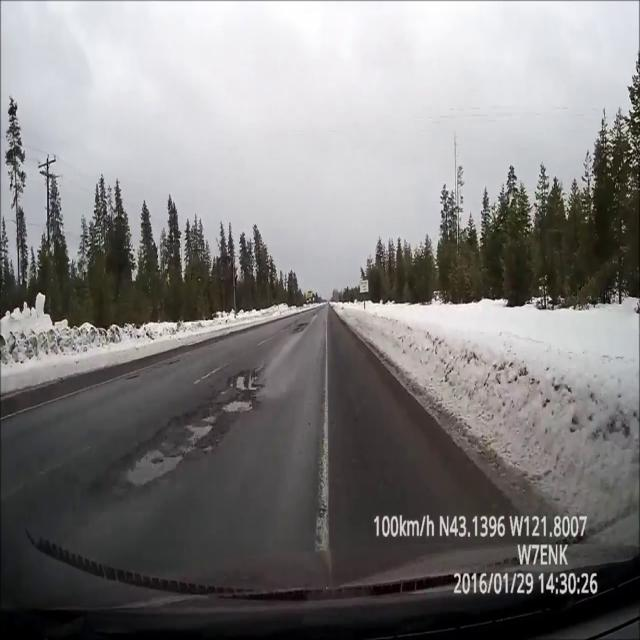Pothole: (95, 407, 223, 502), (224, 369, 263, 396), (224, 397, 257, 415), (292, 322, 309, 334)
